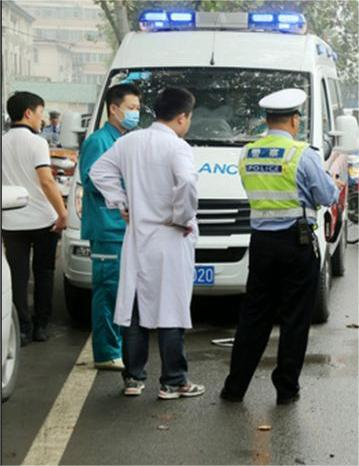up: (95, 78, 220, 406), (217, 87, 332, 413), (72, 83, 141, 379), (1, 84, 74, 346)
